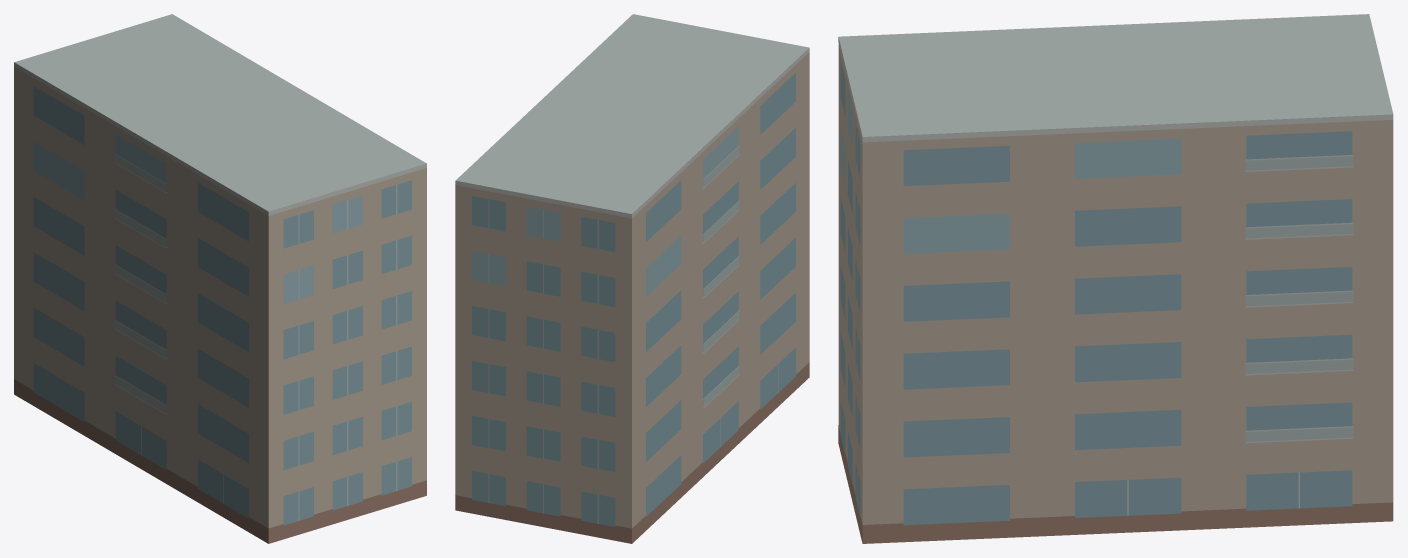
Rendered from survey-upis-32674501.glb.
The picture shows the model from 3 angles, left to right: view 1: azimuth 30°, elevation 25°; view 2: azimuth 150°, elevation 25°; view 3: azimuth 270°, elevation 25°; orthographic projection. The views are drawn at different scales.
Parts seen in each view (by area): view 1: survey-upis-32674501.tmp; view 2: survey-upis-32674501.tmp; view 3: survey-upis-32674501.tmp.
Part boxes in pixels (x1=…): survey-upis-32674501.tmp: x1=14, y1=14, x2=426, y2=543; survey-upis-32674501.tmp: x1=455, y1=14, x2=809, y2=543; survey-upis-32674501.tmp: x1=838, y1=14, x2=1393, y2=543.
Size of the model in its own units: 11.94 by 18.4 by 22.75.
